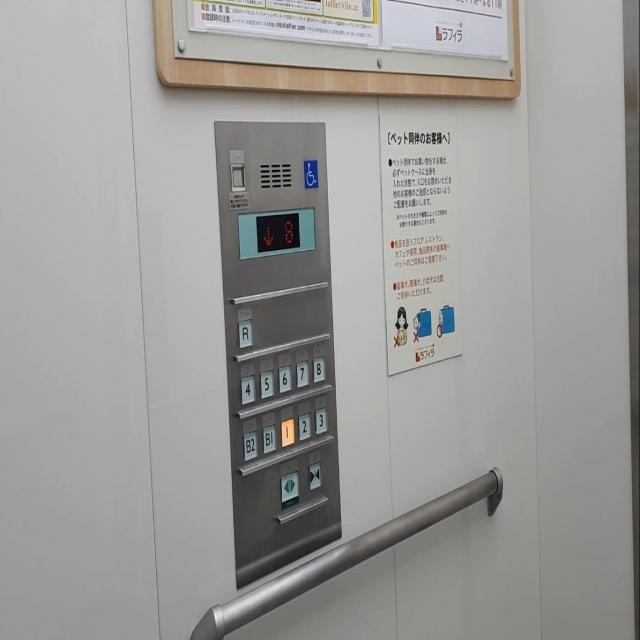1: (280, 416, 294, 447)
2: (298, 411, 310, 441)
3: (314, 405, 327, 435)
4: (240, 373, 256, 405)
5: (259, 368, 274, 399)
6: (278, 364, 292, 394)
7: (294, 358, 308, 389)
8: (312, 355, 326, 383)
B1: (261, 422, 276, 455)
B2: (242, 428, 257, 461)
CH: (302, 160, 318, 188)
R: (236, 317, 252, 348)
call: (230, 162, 246, 190)
close: (307, 458, 321, 492)
led: (254, 208, 300, 254)
open: (280, 470, 299, 508)
